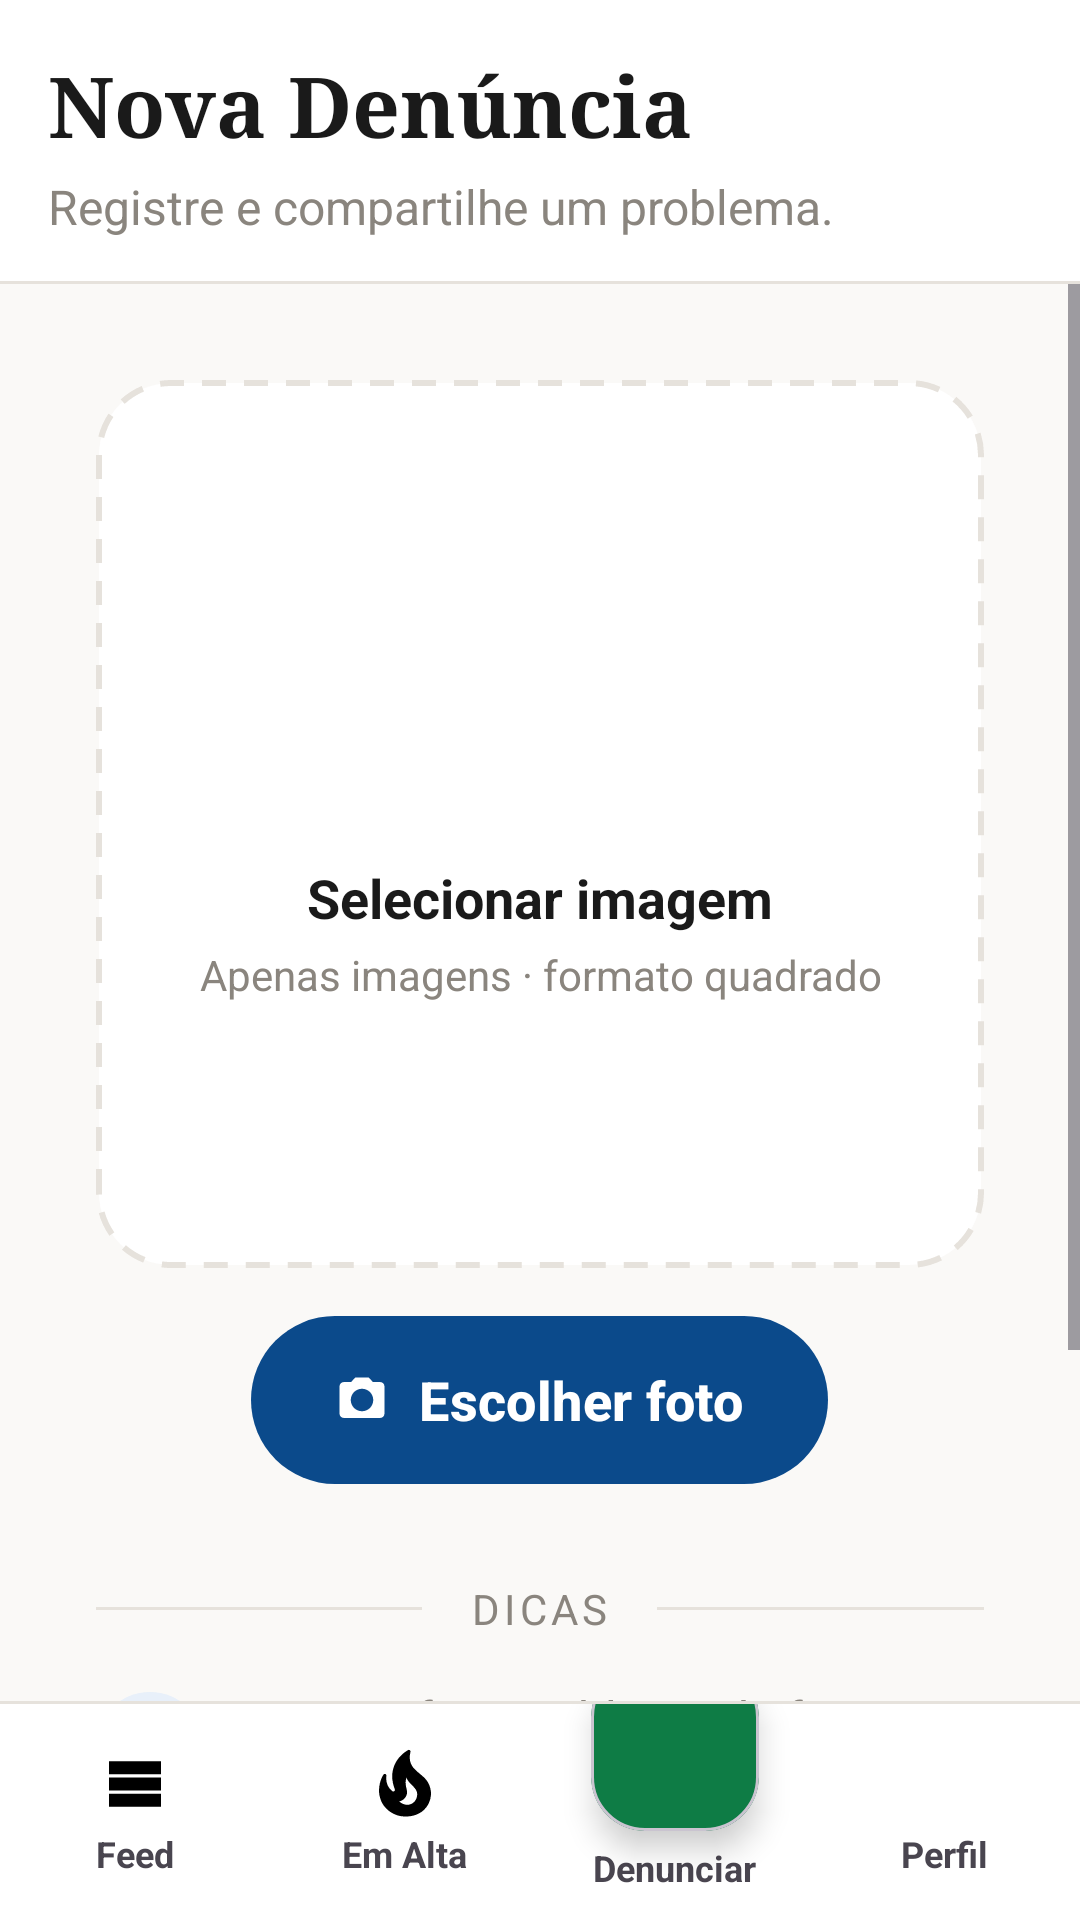

Screen size 1080px×1920px. Icon name, then its box in pixels as (x1, y1, x2, y2):
fire: (379, 1750, 431, 1817)
